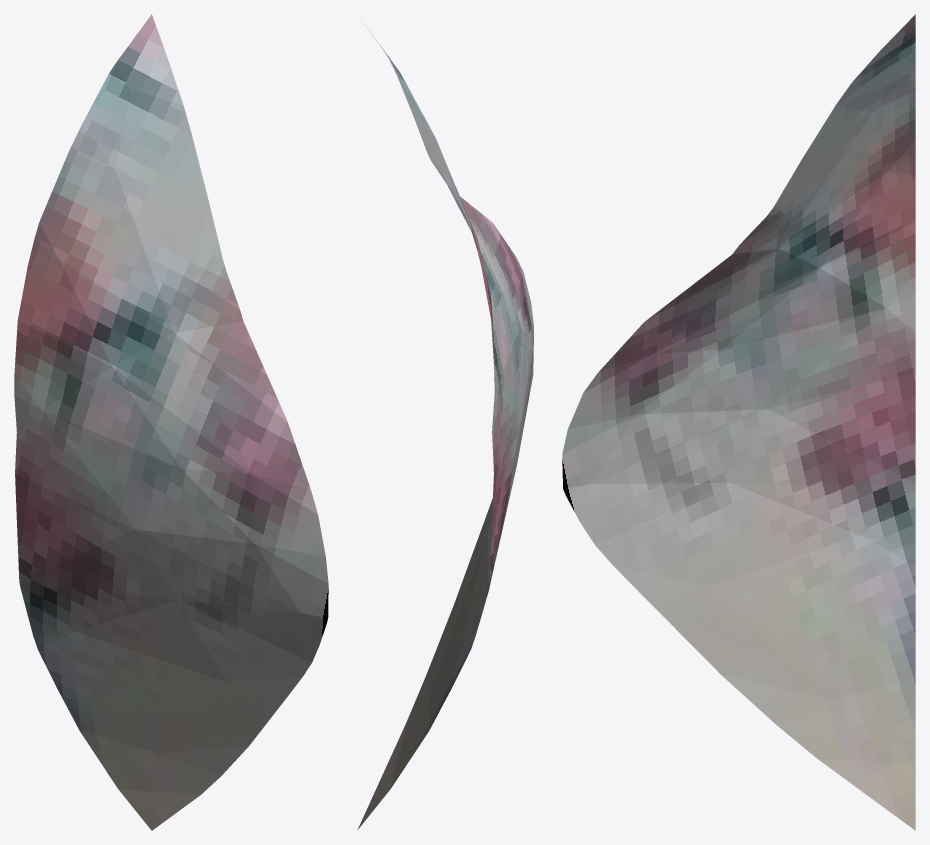
3 renders of one model, left to right at view 1: azimuth 30°, elevation 25°; view 2: azimuth 150°, elevation 25°; view 3: azimuth 270°, elevation 25°, orthographic.
Bounding box in the file's own units: 7.5 × 42.56 × 16.69.
Materials: 1 (1 with a texture image).
